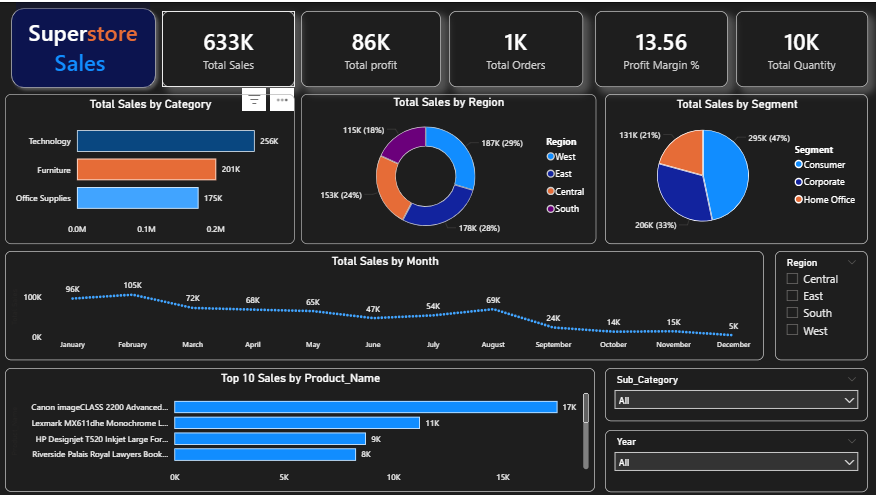

The dashboard page shown, as its layout file describes it:
{"tool":"powerbi","page":{"name":"Page 1","canvas":[1280,720],"ordinal":0},"visuals":[{"type":"cardVisual","fields":{"Data":["All_measures.Total Sales"]},"box":[241.4,13,192.3,109.9],"z":0},{"type":"cardVisual","fields":{"Data":["All_measures.Total profit"]},"box":[442.4,13,202.4,109.9],"z":1000},{"type":"cardVisual","fields":{"Data":["All_measures.Total Orders"]},"box":[656.4,13,193.7,109.9],"z":2000},{"type":"cardVisual","fields":{"Data":["All_measures.Profit Margin %"]},"box":[867.5,13,192.3,109.9],"z":3000},{"type":"cardVisual","fields":{"Data":["All_measures.Total Quantity"]},"box":[1071.3,13,190.8,109.9],"z":4000},{"type":"clusteredBarChart","fields":{"Category":["superstore.Category"],"Y":["All_measures.Total Sales"]},"box":[14.5,133,419.3,216.9],"z":5000},{"type":"donutChart","fields":{"Category":["superstore.Region"],"Y":["All_measures.Total Sales"]},"box":[442.4,133,426.5,216.9],"z":6000},{"type":"lineChart","fields":{"Category":["superstore.Order_Date.Variation.Date Hierarchy.Month"],"Y":["All_measures.Total Sales"]},"box":[14.5,360,1097.3,157.6],"z":7000},{"type":"clusteredBarChart","title":"Top 10 Sales by Product_Name","fields":{"Category":["superstore.Product_Name"],"Y":["All_measures.Total Sales"]},"box":[14.5,529.2,853,179.3],"z":8000},{"type":"pieChart","fields":{"Category":["superstore.Segment"],"Y":["All_measures.Total Sales"]},"box":[881.9,133,380.2,216.9],"z":9000},{"type":"slicer","fields":{"Values":["superstore.Region"]},"box":[1127.7,360,134.5,157.6],"z":10000},{"type":"slicer","fields":{"Values":["superstore.Order_Date.Variation.Date Hierarchy.Year"]},"box":[881.9,618.8,380.2,89.6],"z":11000},{"type":"slicer","fields":{"Values":["superstore.Sub_Category"]},"box":[881.9,529.2,380.2,76.6],"z":12000},{"type":"shape","box":[14.5,0,227,133],"z":13000},{"type":"textbox","box":[30.4,0,193.7,122.9],"z":14000}]}

Visuals, with their boxes in screenshot pixels (x1, y1, x2, y2), scaled from the page's 1280x720 canvas onto the 876x495 screenshot:
cardVisual - All_measures.Total Sales: 165:9:297:84
cardVisual - All_measures.Total profit: 303:9:441:84
cardVisual - All_measures.Total Orders: 449:9:582:84
cardVisual - All_measures.Profit Margin %: 594:9:725:84
cardVisual - All_measures.Total Quantity: 733:9:864:84
clusteredBarChart - superstore.Category x All_measures.Total Sales: 10:91:297:241
donutChart - superstore.Region x All_measures.Total Sales: 303:91:595:241
lineChart - superstore.Order_Date.Variation.Date Hierarchy.Month x All_measures.Total Sales: 10:248:761:356
"Top 10 Sales by Product_Name" clusteredBarChart: 10:364:594:487
pieChart - superstore.Segment x All_measures.Total Sales: 604:91:864:241
slicer - superstore.Region: 772:248:864:356
slicer - superstore.Order_Date.Variation.Date Hierarchy.Year: 604:425:864:487
slicer - superstore.Sub_Category: 604:364:864:416
shape: 10:0:165:91
textbox: 21:0:153:84
